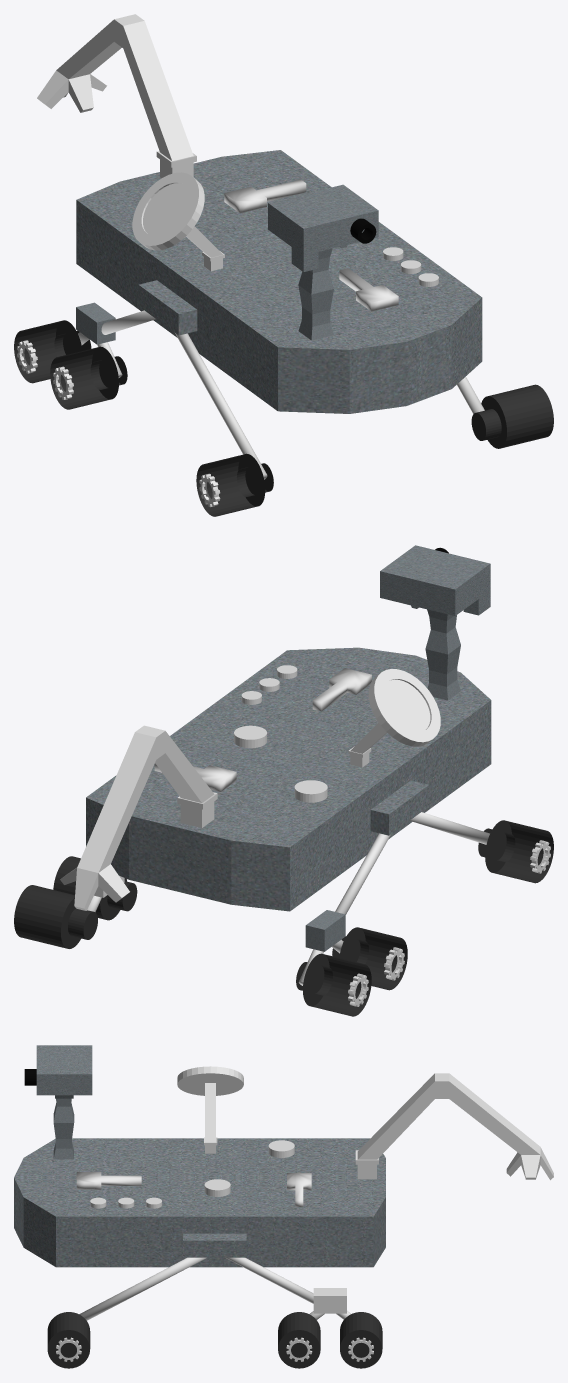
The model's file is mars rover.fbx.
3 renders of one model, top to bottom at view 1: azimuth 30°, elevation 25°; view 2: azimuth 150°, elevation 25°; view 3: azimuth 270°, elevation 25°, orthographic. The views are drawn at different scales.
Visible parts, largest first — view 1: Body, arm, head, radar arm, tire.002, tire.004, tire.003, tire.005, neck, Cylinder.007, body decoration 4, body decoration 1 (+2 smaller); view 2: Body, arm, head, radar arm, tire, tire.005, tire.003, neck, tire.004, tire.001, Cube.001, body decoration 1 (+5 smaller); view 3: Body, arm, head, radar arm, tire.002, tire, tire.001, Cylinder, neck, body decoration 1, Cylinder.001, Cube (+3 smaller).
Part boxes in pixels (<box>): Body: <box>76,150,482,413</box>; arm: <box>37,14,196,178</box>; head: <box>268,184,378,271</box>; radar arm: <box>132,172,224,271</box>; tire.002: <box>471,384,553,448</box>; tire.004: <box>50,346,127,409</box>; tire.003: <box>196,453,273,516</box>; tire.005: <box>14,320,91,383</box>; neck: <box>298,248,333,340</box>; Cylinder.007: <box>175,333,267,479</box>; body decoration 4: <box>224,179,306,213</box>; body decoration 1: <box>339,268,398,311</box>; Body: <box>86,647,491,911</box>; arm: <box>60,725,217,910</box>; head: <box>380,545,490,615</box>; radar arm: <box>348,669,440,767</box>; tire: <box>14,885,97,948</box>; tire.005: <box>296,953,371,1016</box>; tire.003: <box>478,820,553,883</box>; neck: <box>425,609,460,700</box>; tire.004: <box>332,927,407,990</box>; tire.001: <box>53,856,137,920</box>; Cube.001: <box>305,910,345,951</box>; body decoration 1: <box>312,668,371,711</box>; Body: <box>14,1138,385,1267</box>; arm: <box>355,1073,553,1180</box>; head: <box>36,1045,92,1098</box>; radar arm: <box>177,1066,243,1153</box>; tire.002: <box>47,1312,90,1368</box>; tire: <box>340,1312,382,1368</box>; tire.001: <box>278,1312,320,1368</box>; Cylinder: <box>79,1257,206,1320</box>; neck: <box>53,1098,74,1159</box>; body decoration 1: <box>76,1172,141,1189</box>; Cylinder.001: <box>225,1257,313,1303</box>; Cube: <box>313,1288,346,1313</box>.
Size of the model in its own units: 327 by 266 by 581.
